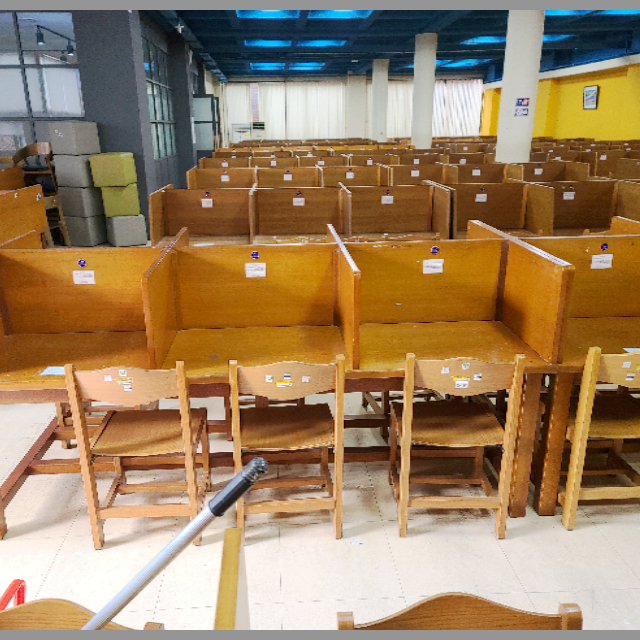empty: (152, 240, 359, 466), (363, 239, 554, 473), (1, 242, 148, 466)
